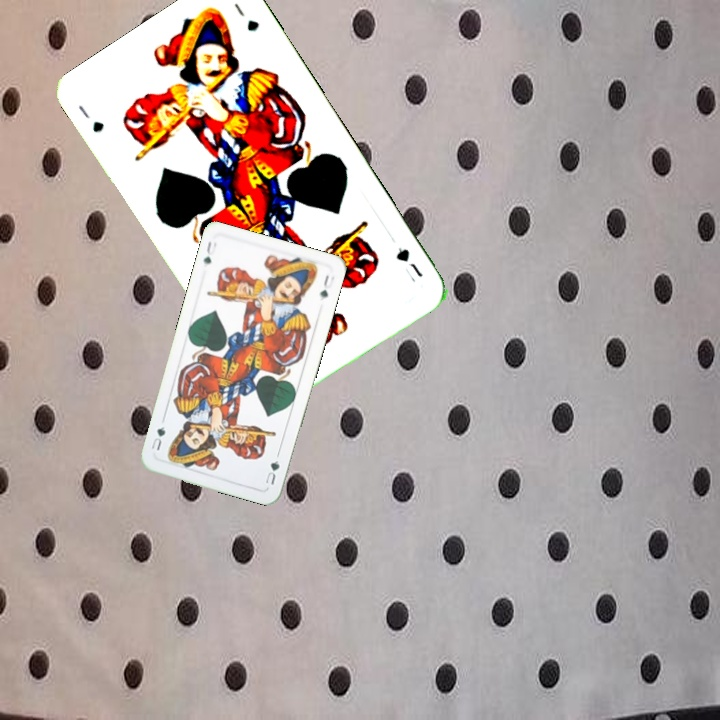GU: (391, 243, 426, 280), (73, 100, 107, 135), (261, 456, 282, 487), (199, 237, 219, 267)
